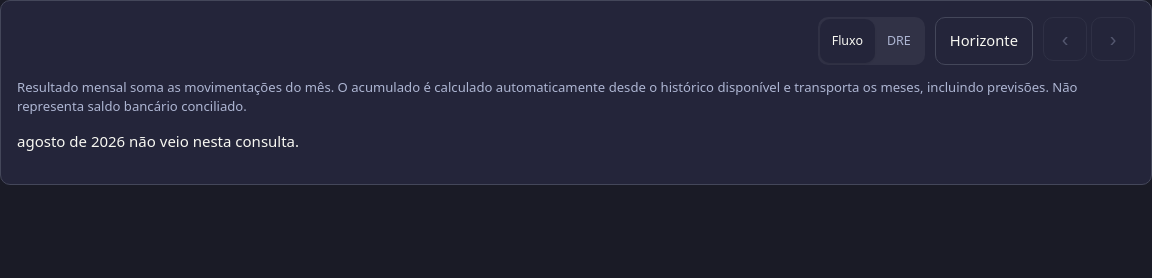
Test: códigos de qualidade não aparecem como texto técnico para o cliente
Click the button "DRE" at (899, 41), box [875,19,923,63]
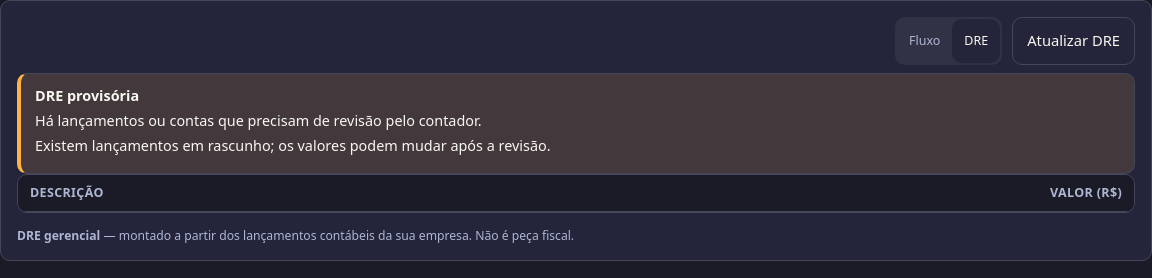
Expected: the text "Existem lançamentos em rascunho" is shown, [35,136,551,155]
